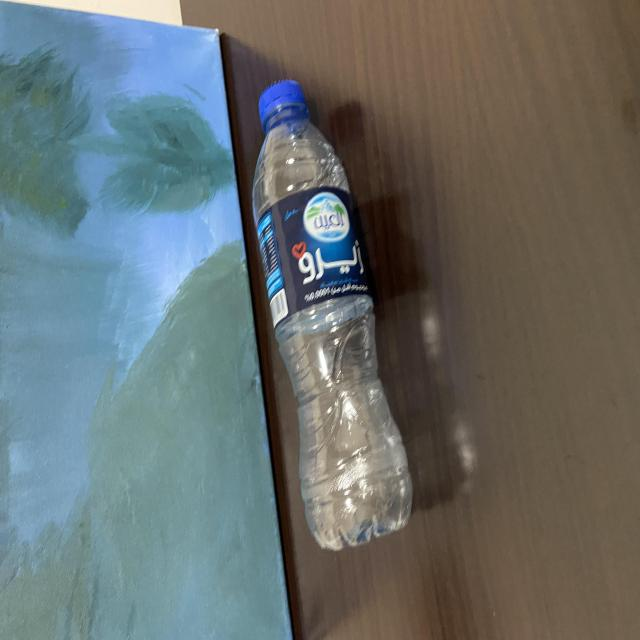plastic: (253, 80, 417, 550)
